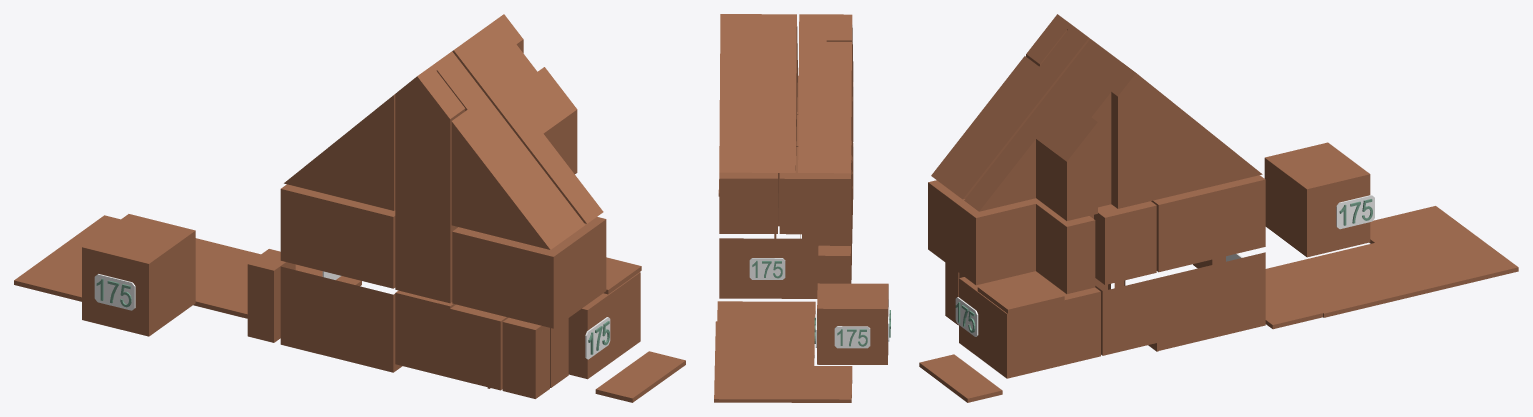
3 views of the same model, side by side, from view 1: azimuth 30°, elevation 25°; view 2: azimuth 150°, elevation 25°; view 3: azimuth 270°, elevation 25° (orthographic). The views are drawn at different scales.
Visible parts, largest first — view 1: g_7, g_11, g_6, g_5, g_2, g_0, g_9, g_8, g_15, g_14, g_1, g_4 (+4 smaller); view 2: g_6, g_15, g_7, g_0, g_5, g_9, g_10, g_3, g_8, g_21, g_37, g_2 (+1 smaller); view 3: g_6, g_15, g_11, g_0, g_1, g_5, g_10, g_7, g_12, g_16, g_17, g_8 (+2 smaller).
Part boxes in pixels (box(x1,y1,x2,y2)): g_7: box(284, 51, 585, 249); g_11: box(452, 217, 606, 328); g_6: box(452, 14, 603, 223); g_5: box(82, 214, 195, 336); g_2: box(395, 290, 568, 390); g_0: box(280, 266, 402, 372); g_9: box(280, 184, 395, 288); g_8: box(395, 64, 465, 225); g_15: box(14, 215, 361, 318); g_14: box(395, 212, 457, 303); g_1: box(568, 272, 640, 379); g_4: box(502, 317, 549, 398); g_6: box(719, 14, 797, 172); g_15: box(714, 301, 852, 402); g_7: box(798, 14, 853, 173); g_0: box(719, 205, 851, 298); g_5: box(817, 283, 888, 364); g_9: box(779, 141, 851, 234); g_10: box(719, 172, 778, 233); g_3: box(818, 245, 850, 283); g_8: box(826, 14, 852, 125); g_21: box(834, 326, 870, 348); g_37: box(749, 258, 785, 279); g_2: box(802, 157, 852, 243); g_6: box(964, 39, 1262, 220); g_15: box(1265, 206, 1518, 329); g_11: box(928, 180, 1095, 293); g_0: box(1095, 252, 1265, 355); g_1: box(959, 271, 1100, 378); g_5: box(1264, 142, 1370, 257); g_10: box(1151, 175, 1265, 272); g_7: box(931, 25, 1090, 199); g_12: box(1094, 201, 1156, 284); g_16: box(977, 273, 1064, 313); g_17: box(919, 354, 1002, 402); g_8: box(1026, 14, 1072, 66).
Bounding box in the file's own units: 14.73 × 10.25 × 19.33.
